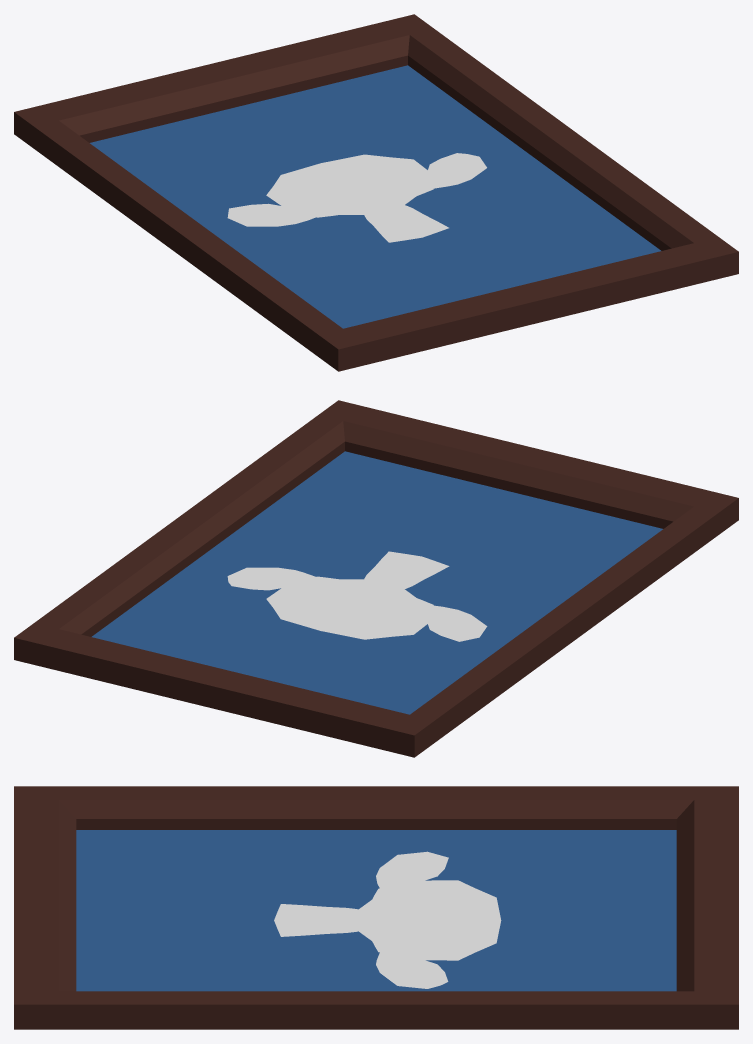
The model's file is painting.glb.
3 renders of one model, top to bottom at view 1: azimuth 30°, elevation 25°; view 2: azimuth 150°, elevation 25°; view 3: azimuth 270°, elevation 25°, orthographic. The views are drawn at different scales.
Visible parts, largest first — view 1: Painting; view 2: Painting; view 3: Painting.
Boxes of the visible parts, left/top/right/bottom form: Painting: left=14, top=14, right=738, bottom=371; Painting: left=14, top=400, right=738, bottom=757; Painting: left=14, top=786, right=738, bottom=1029.
Bounding box in the file's own units: 0.1909 × 0.0101 × 0.2679.
Materials: 1 (1 with a texture image).
